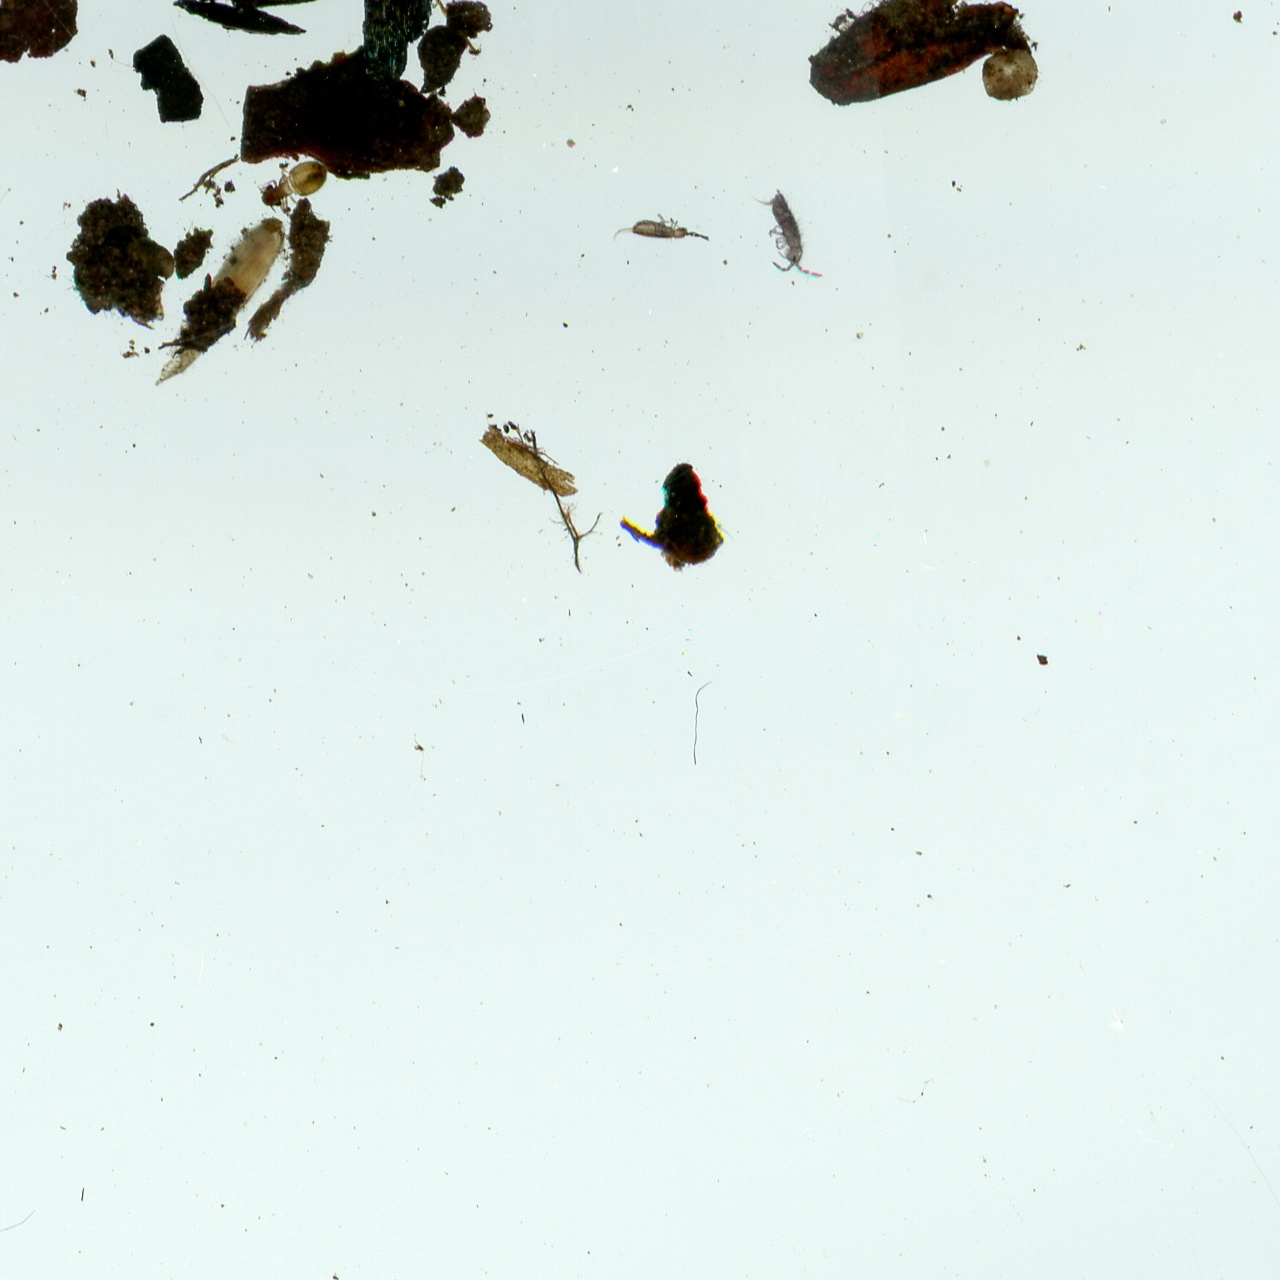arthropod: (744, 175, 830, 295), (250, 145, 342, 224), (607, 210, 713, 246)
